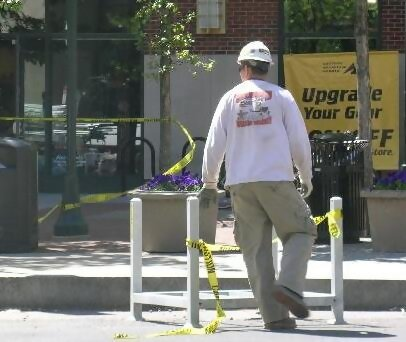person: (204, 41, 329, 329)
